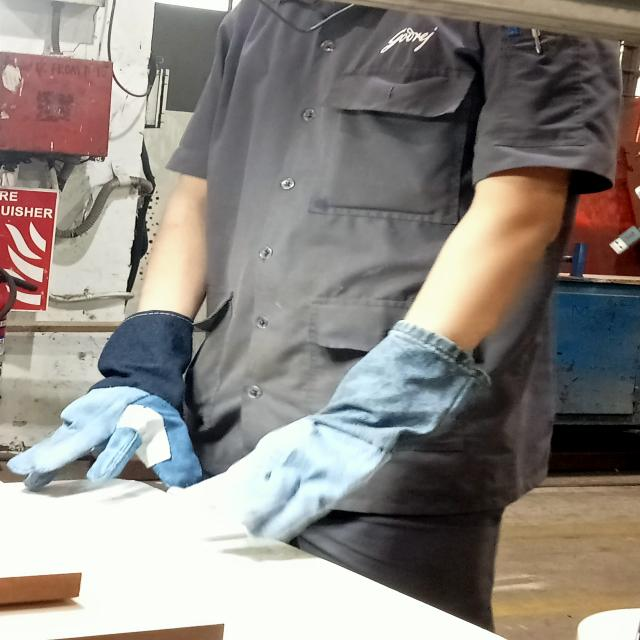Gloves-Detection: (28, 316, 205, 491), (291, 379, 413, 513)
